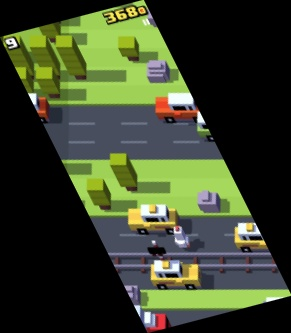car: (197, 106, 251, 142), (234, 222, 291, 253), (156, 92, 211, 124), (127, 204, 179, 235), (149, 261, 202, 290), (8, 93, 51, 122)
duck: (173, 225, 191, 251)
light off: (147, 239, 173, 276)
rail: (98, 252, 283, 274)
rock: (197, 189, 223, 213), (115, 283, 141, 307), (146, 60, 170, 84)
tree: (28, 35, 62, 81), (3, 34, 35, 81), (56, 36, 88, 81), (109, 153, 139, 192), (9, 66, 35, 99), (87, 178, 112, 211), (37, 67, 62, 98), (118, 36, 141, 63), (37, 17, 60, 43)
truck: (105, 304, 173, 333)
